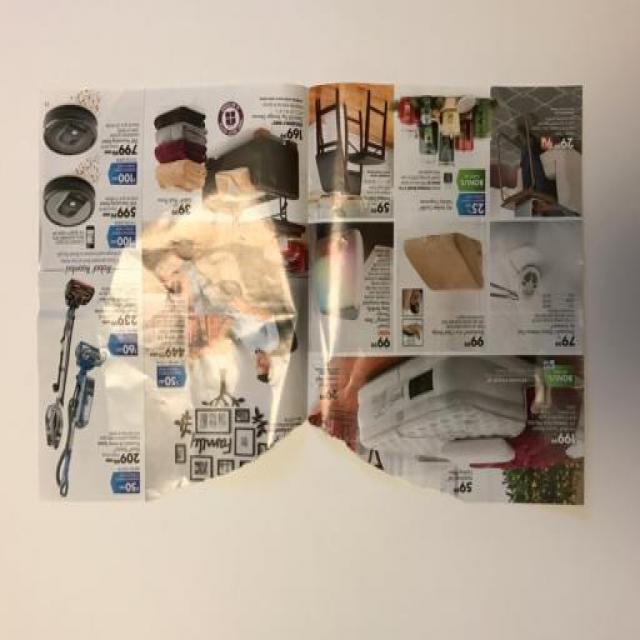paper: (23, 71, 605, 591)
